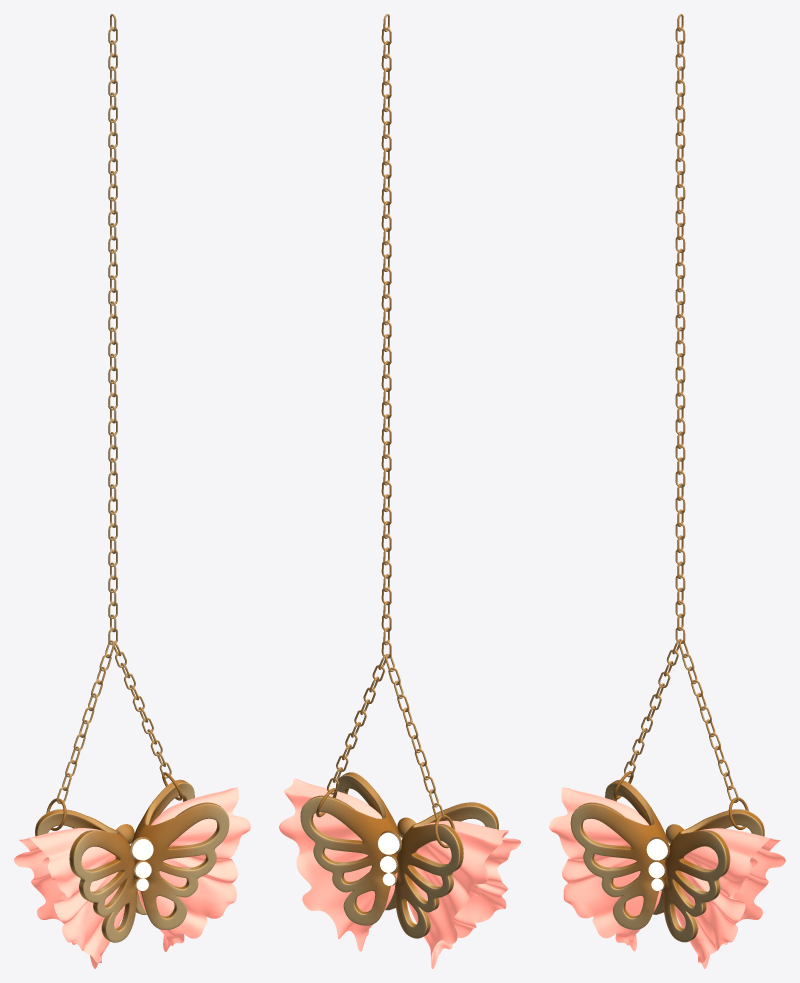
File: earrings.fbx
The picture shows the model from 3 angles, left to right: view 1: azimuth 30°, elevation 25°; view 2: azimuth 150°, elevation 25°; view 3: azimuth 330°, elevation 25°; orthographic projection. The views are drawn at different scales.
Visible parts, largest first — view 1: polySurface3; view 2: polySurface3; view 3: polySurface3.
Part boxes in pixels (<box>): polySurface3: <box>14,14,250,968</box>; polySurface3: <box>279,14,520,968</box>; polySurface3: <box>549,14,785,968</box>.
Size of the model in its own units: 32.61 by 137 by 11.63.
